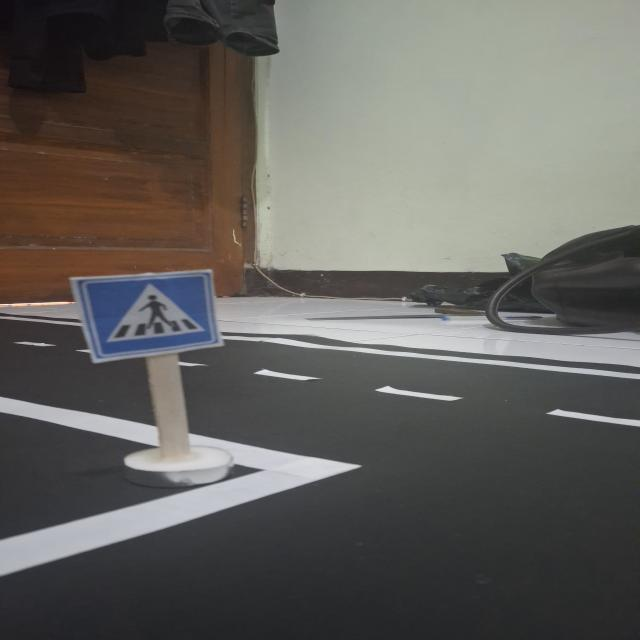Rambu Penyebrangan: (77, 274, 221, 359)
